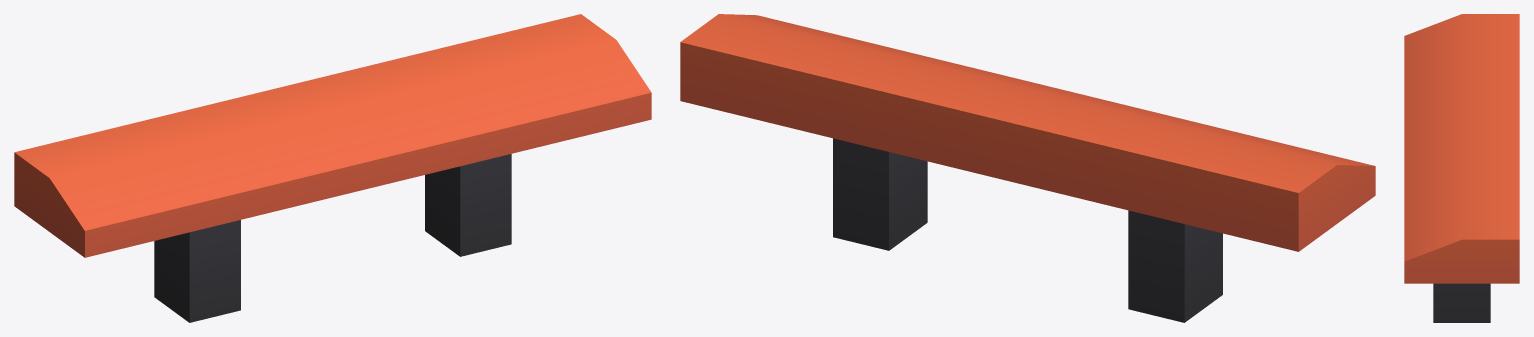
File: debris-spoiler-a.glb
3 views of the same model, side by side, from view 1: azimuth 30°, elevation 25°; view 2: azimuth 150°, elevation 25°; view 3: azimuth 270°, elevation 25° (orthographic). The views are drawn at different scales.
Visible parts, largest first — view 1: debris-spoiler-a; view 2: debris-spoiler-a; view 3: debris-spoiler-a.
Boxes of the visible parts, x1,y1,x2,y2 form: debris-spoiler-a: (14,14,651,322); debris-spoiler-a: (680,14,1375,322); debris-spoiler-a: (1404,14,1519,322).
Bounding box in the file's own units: 1.1 × 0.3 × 0.2374.
Materials: 1 (1 with a texture image).
